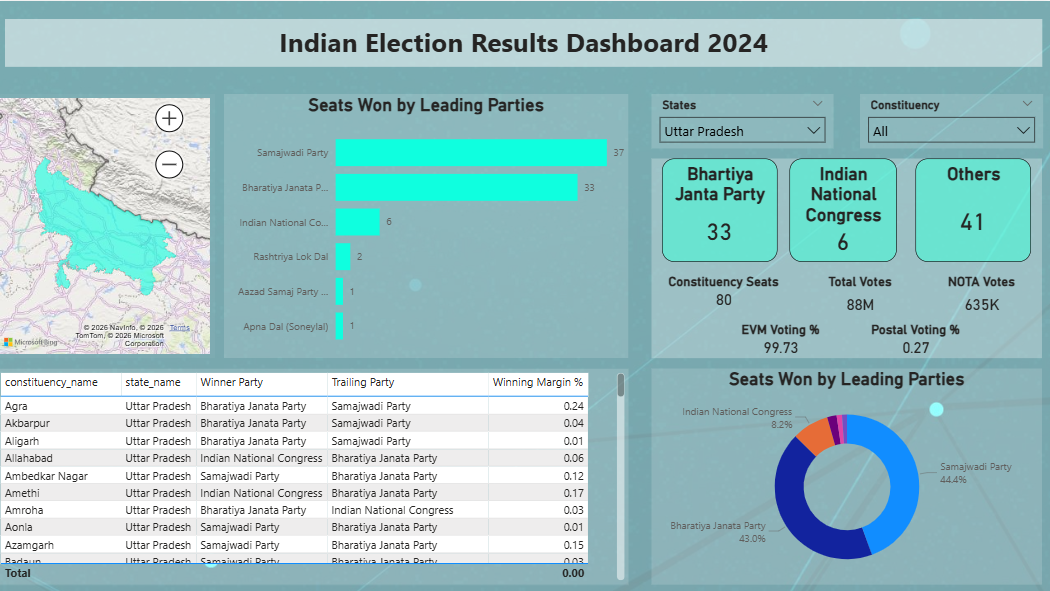

What the dashboard file says about the page in this screenshot:
{"tool":"powerbi","page":{"name":"Page 1","canvas":[1280,720],"ordinal":0},"visuals":[{"type":"filledMap","fields":{"Category":["Election_Results_2024.state_name"]},"box":[0,113.3,265,320],"z":0},{"type":"clusteredBarChart","title":"Seats Won by Leading Parties","fields":{"Category":["Election_Results_2024.party_name"],"Y":["Count(Election_Results_2024.constituency_name)"]},"box":[276.7,113.3,490,320],"z":1000},{"type":"slicer","fields":{"Values":["Election_Results_2024.state_name"]},"box":[794.6,112.6,220.5,65.7],"z":2000},{"type":"slicer","fields":{"Values":["Election_Results_2024.constituency_name"]},"box":[1046.4,112.6,222.1,65.7],"z":3000},{"type":"donutChart","title":"Seats Won by Leading Parties","fields":{"Category":["Election_Results_2024.party_name"],"Y":["Election_Results_2024.Leading Party Vote Share %"]},"box":[795,445,473.3,261.7],"z":4000},{"type":"tableEx","title":"Seats Won by Leading Parties","fields":{"Values":["Election_Results_2024.constituency_name","Election_Results_2024.state_name","Election_Results_2024.Winner Party","Election_Results_2024.Trailing Party","Election_Results_2024.Winning Margin %"]},"box":[0,445,766.7,261.7],"z":5000},{"type":"textbox","box":[10.9,21.9,1257.6,57.9],"z":6000},{"type":"textbox","box":[795,191.7,473.3,241.7],"z":7000},{"type":"card","title":"Bhartiya Janta Party","fields":{"Values":["Count(Election_Results_2024.constituency_name)"]},"box":[806.7,191.7,140,125],"z":8000},{"type":"card","title":"Indian National Congress","fields":{"Values":["Count(Election_Results_2024.constituency_name)"]},"box":[961.7,191.7,130,125],"z":9000},{"type":"card","title":"Others","fields":{"Values":["Count(Election_Results_2024.constituency_name)"]},"box":[1115,191.7,140,125],"z":10000},{"type":"card","title":"Constituency Seats","fields":{"Values":["Count(Election_Results_2024.constituency_name)"]},"box":[801.7,331.7,160,45],"z":11000},{"type":"card","title":"Total Votes","fields":{"Values":["Sum(Election_Results_2024.total_votes)"]},"box":[966.7,331.7,160,56.7],"z":12000},{"type":"card","title":"NOTA Votes","fields":{"Values":["Sum(Election_Results_2024.EVM_votes)"]},"box":[1115,331.7,160,56.7],"z":13000},{"type":"card","title":"EVM Voting %","fields":{"Values":["Election_Results_2024.EVM VOte %"]},"box":[871.7,388.3,160,45],"z":14000},{"type":"card","title":"Postal Voting %","fields":{"Values":["Election_Results_2024.Postal Votes %"]},"box":[1035,388.3,160,45],"z":15000}]}

Visuals, with their boxes in screenshot pixels (x1, y1, x2, y2), scaled from the page's 1280x720 canvas onto the 1050x591 screenshot:
filledMap - Election_Results_2024.state_name: <bbox>0, 93, 217, 356</bbox>
"Seats Won by Leading Parties" clusteredBarChart: <bbox>227, 93, 629, 356</bbox>
slicer - Election_Results_2024.state_name: <bbox>652, 92, 833, 146</bbox>
slicer - Election_Results_2024.constituency_name: <bbox>858, 92, 1041, 146</bbox>
"Seats Won by Leading Parties" donutChart: <bbox>652, 365, 1040, 580</bbox>
"Seats Won by Leading Parties" tableEx: <bbox>0, 365, 629, 580</bbox>
textbox: <bbox>9, 18, 1041, 66</bbox>
textbox: <bbox>652, 157, 1040, 356</bbox>
"Bhartiya Janta Party" card: <bbox>662, 157, 777, 260</bbox>
"Indian National Congress" card: <bbox>789, 157, 896, 260</bbox>
"Others" card: <bbox>915, 157, 1029, 260</bbox>
"Constituency Seats" card: <bbox>658, 272, 789, 309</bbox>
"Total Votes" card: <bbox>793, 272, 924, 319</bbox>
"NOTA Votes" card: <bbox>915, 272, 1046, 319</bbox>
"EVM Voting %" card: <bbox>715, 319, 846, 356</bbox>
"Postal Voting %" card: <bbox>849, 319, 980, 356</bbox>
